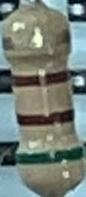Brown: (16, 107, 76, 127), (12, 69, 70, 88)
Green: (14, 145, 84, 166)
Side-Silver: (3, 29, 70, 51)
